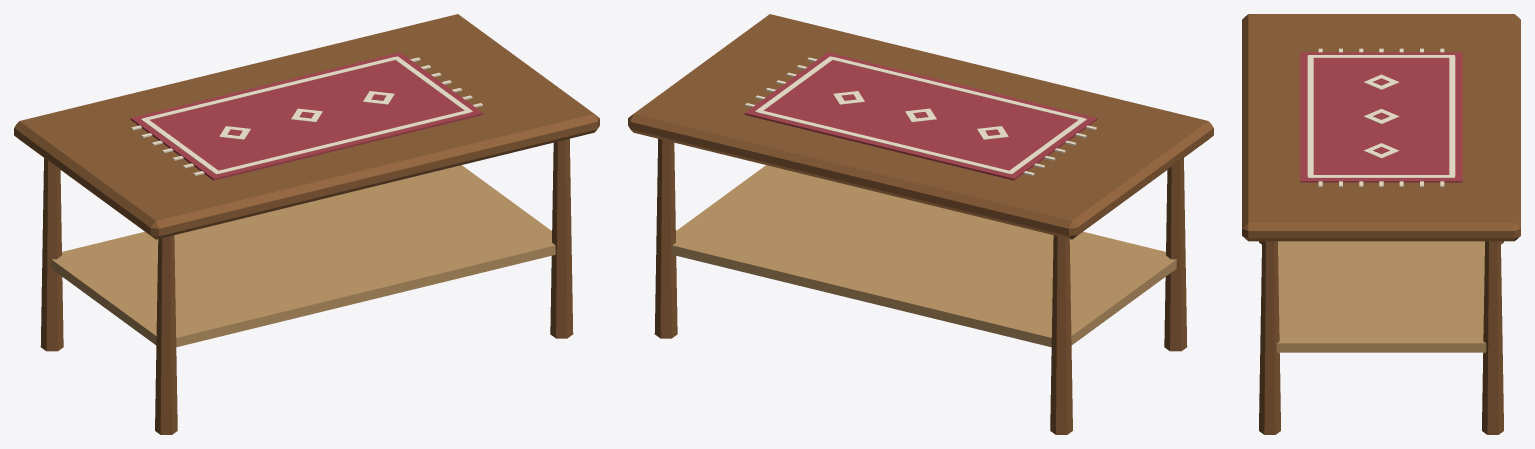
Rendered from coffee_table.glb.
3 renders of one model, left to right at view 1: azimuth 30°, elevation 25°; view 2: azimuth 150°, elevation 25°; view 3: azimuth 270°, elevation 25°, orthographic. The views are drawn at different scales.
Visible parts, largest first — view 1: coffee_table; view 2: coffee_table; view 3: coffee_table.
Boxes of the visible parts, x1,y1,x2,y2 form: coffee_table: (14, 14, 599, 434); coffee_table: (628, 14, 1213, 434); coffee_table: (1242, 14, 1520, 434).
Bounding box in the file's own units: 1 × 0.4803 × 0.55.
